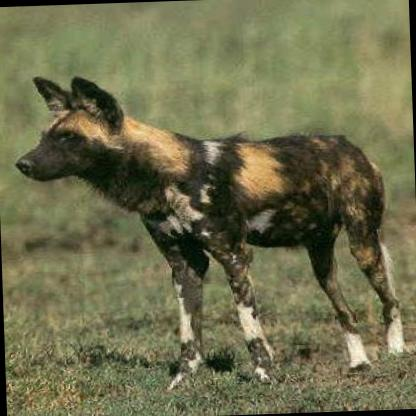African_hunting_dog: (9, 60, 409, 395)
